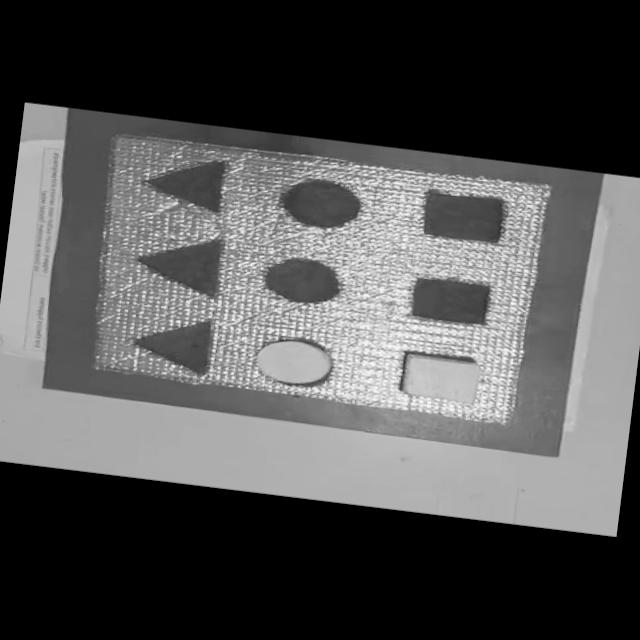mtcircle: (278, 176, 364, 234), (260, 255, 344, 308)
mtcube: (418, 188, 508, 247), (407, 274, 495, 328)
mttriangle: (134, 229, 228, 298), (128, 312, 216, 378), (140, 152, 229, 216)
wb: (79, 131, 550, 429)
ycircle: (250, 334, 336, 390)
ycube: (397, 350, 485, 406)
